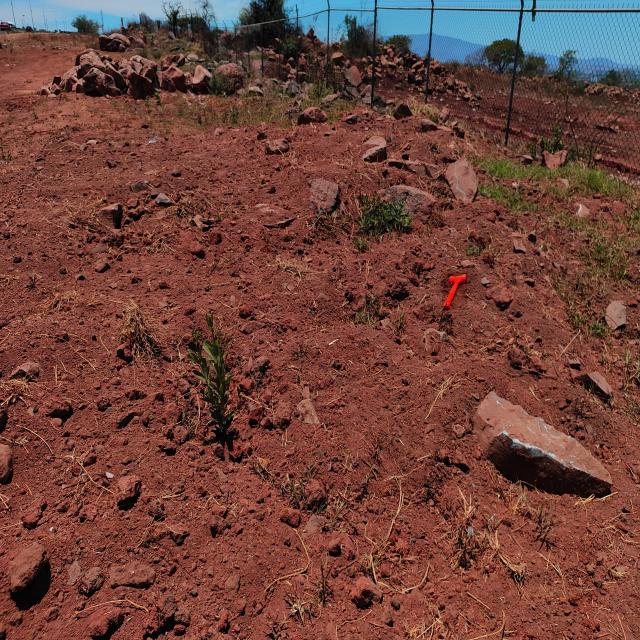Orange_hammer: (442, 272, 467, 310)
